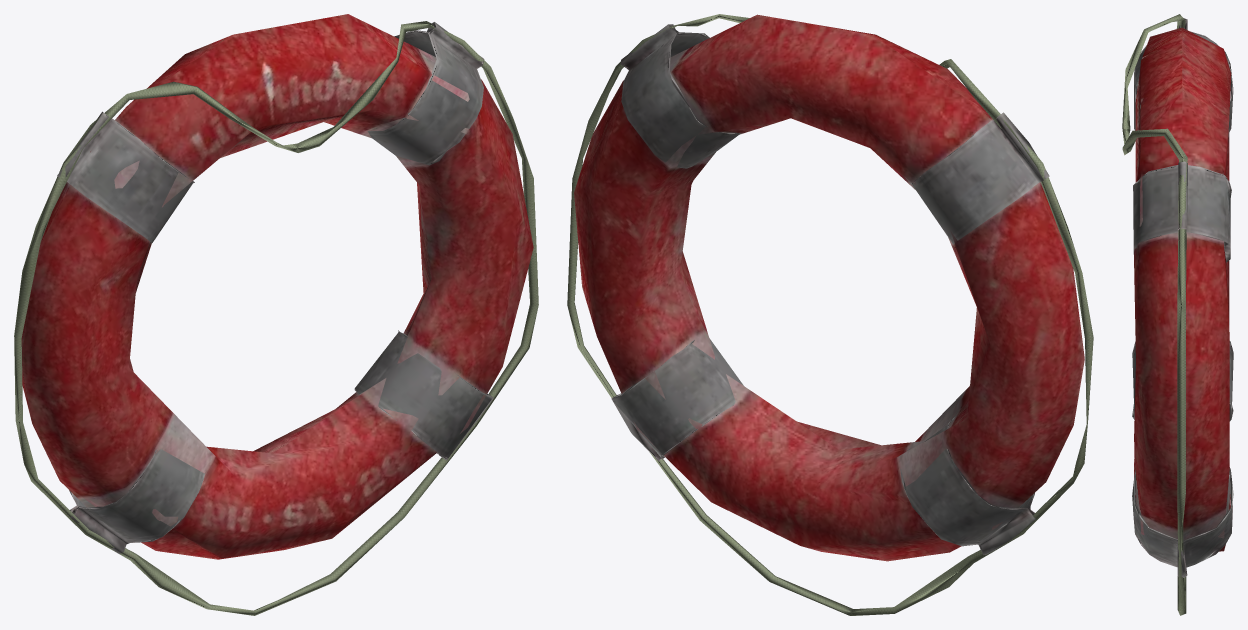
File: lifebuoy.glb
3 renders of one model, left to right at view 1: azimuth 30°, elevation 25°; view 2: azimuth 150°, elevation 25°; view 3: azimuth 270°, elevation 25°, orthographic. The views are drawn at different scales.
Visible parts, largest first — view 1: lifebuoy; view 2: lifebuoy; view 3: lifebuoy.
Boxes of the visible parts, x1,y1,x2,y2 form: lifebuoy: [14, 14, 538, 615]; lifebuoy: [567, 14, 1093, 615]; lifebuoy: [1122, 14, 1233, 615].
Bounding box in the file's own units: 0.7798 × 0.8347 × 0.1533.
1 material, 1 textured.
